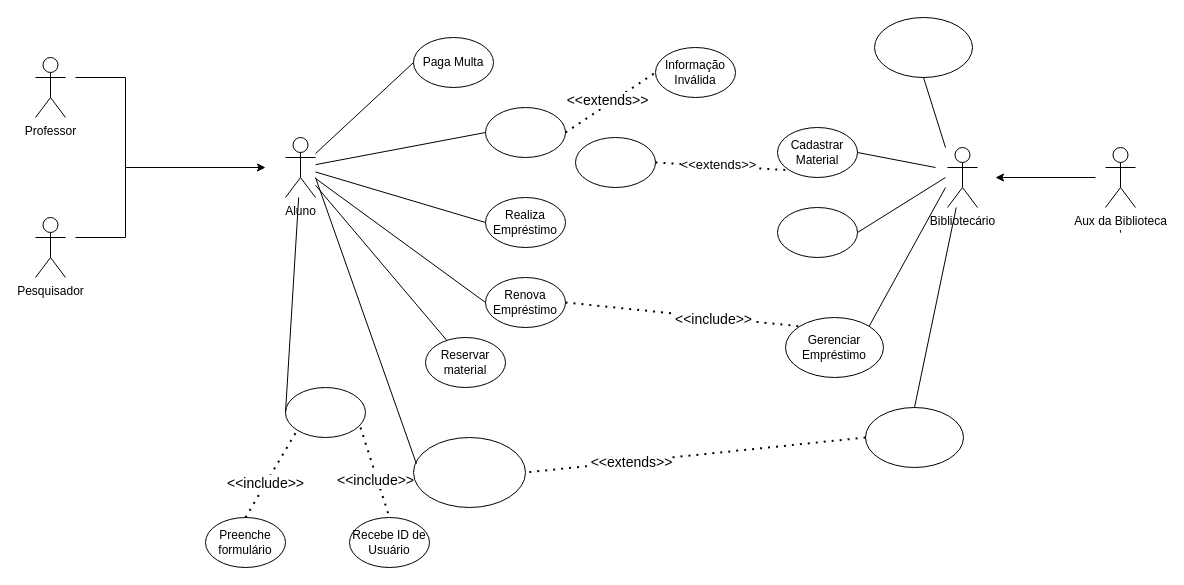
The diagram is 1184 pixels wide and 585 high, and some of its shapes have lost their labels. Here are the shapes that lost their labels. From the top down, the box of each, then its label:
(874, 16, 972, 78): Configurar Sistema
(484, 106, 566, 158): Consulta acervo
(574, 136, 656, 188): Atualiza Livro
(776, 206, 858, 258): Catalogar Material
(284, 386, 366, 438): Editar Cadastro
(864, 406, 964, 468): Gerar Relatório
(412, 436, 526, 508): Consulta Histórico de Empréstimos
